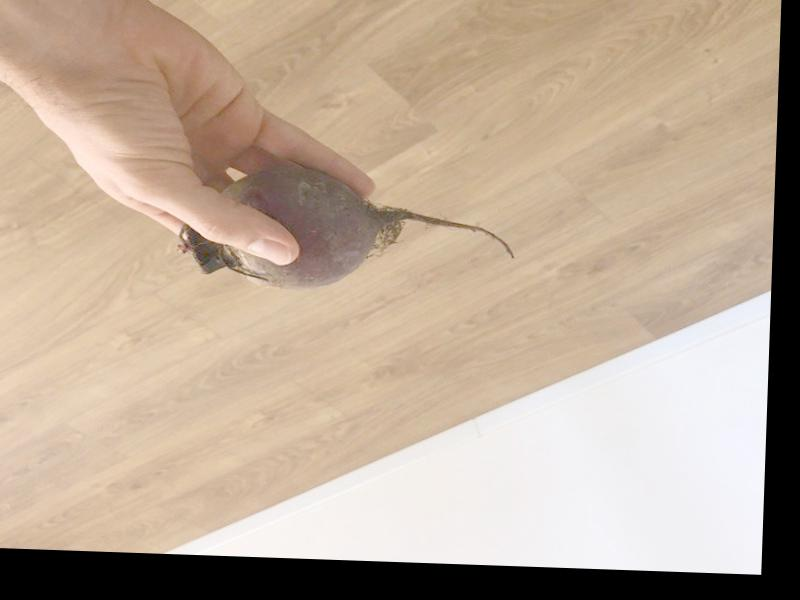Beet: (177, 163, 518, 295)
